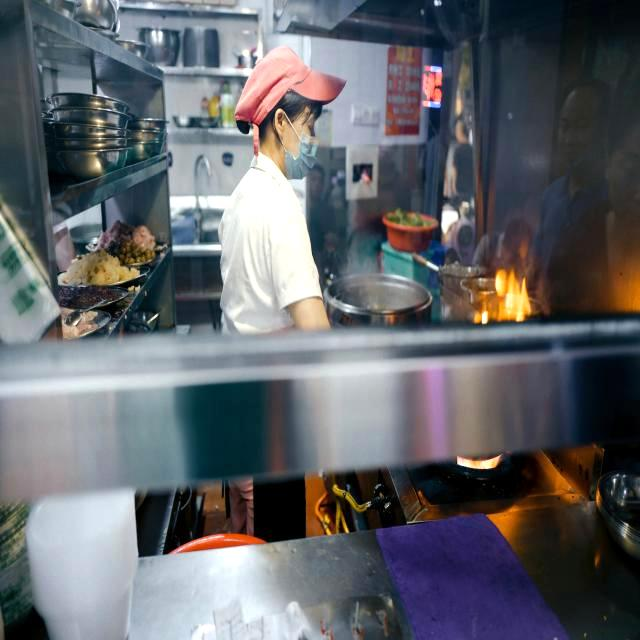no_hard_hat: (235, 46, 346, 134)
person: (219, 46, 346, 334)
